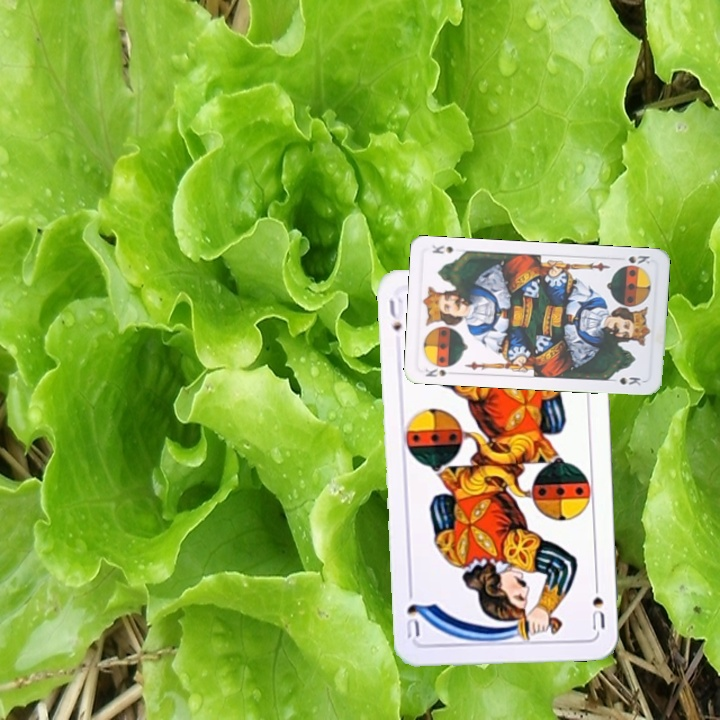SK: (617, 251, 654, 270), (421, 364, 459, 379)
SU: (588, 575, 607, 632), (385, 294, 406, 333)
